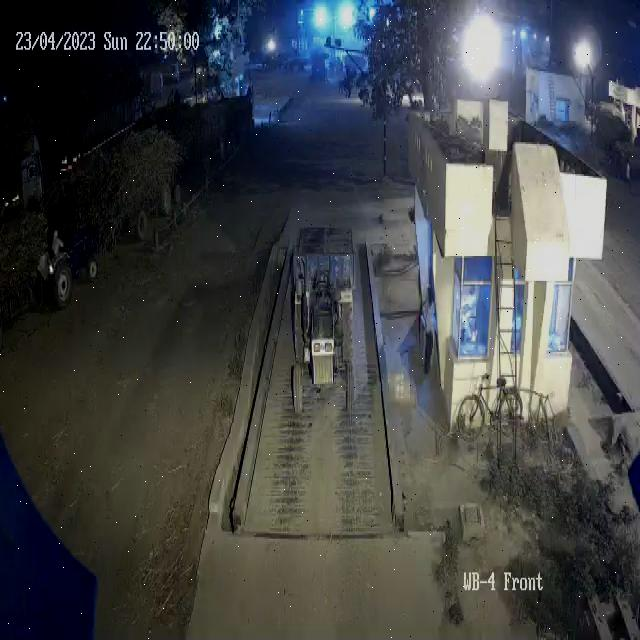Tratores - v5 YOLO V8L 2024-11-13: (290, 261, 361, 435), (46, 204, 100, 309)
